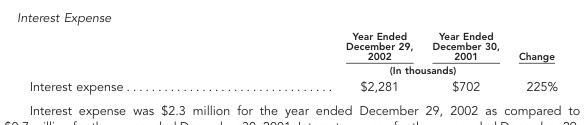table: (28, 29, 556, 93)
table column: (28, 29, 338, 93), (422, 29, 508, 93), (338, 29, 422, 93), (508, 29, 556, 93)
table column header: (28, 29, 556, 76)
table row: (28, 29, 556, 62), (28, 76, 556, 93), (28, 62, 556, 76)
table spanning cell: (338, 62, 508, 76), (508, 29, 556, 76)
